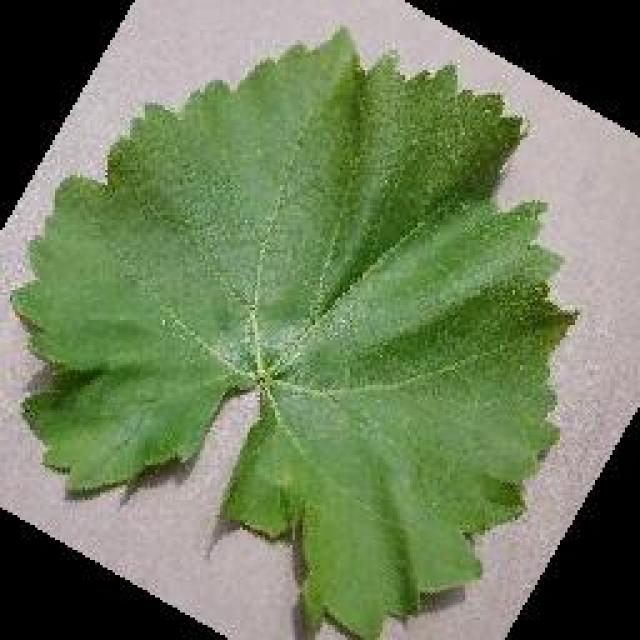Grape___healthy: (6, 21, 587, 638)
